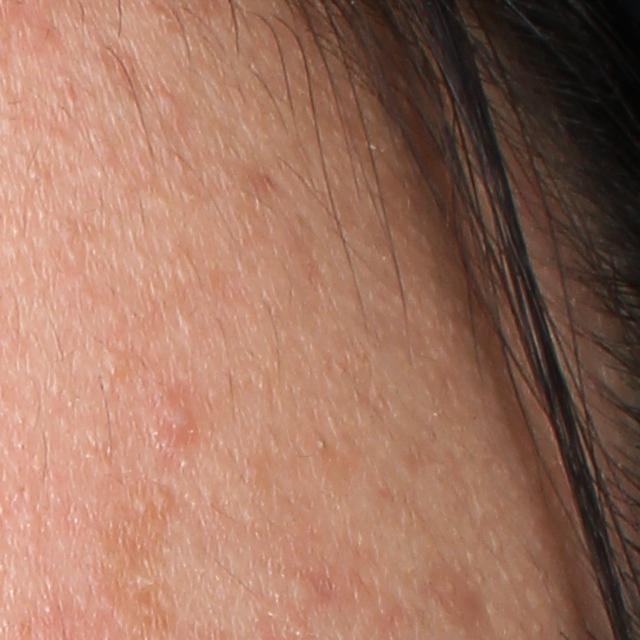comedo: (102, 351, 131, 377)
